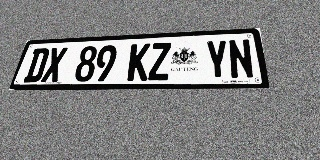8: (73, 46, 99, 82)
9: (93, 45, 118, 81)
D: (23, 48, 51, 83)
K: (127, 43, 151, 81)
N: (227, 39, 255, 79)
X: (41, 47, 68, 82)
Y: (205, 40, 230, 80)
Z: (148, 42, 171, 81)
